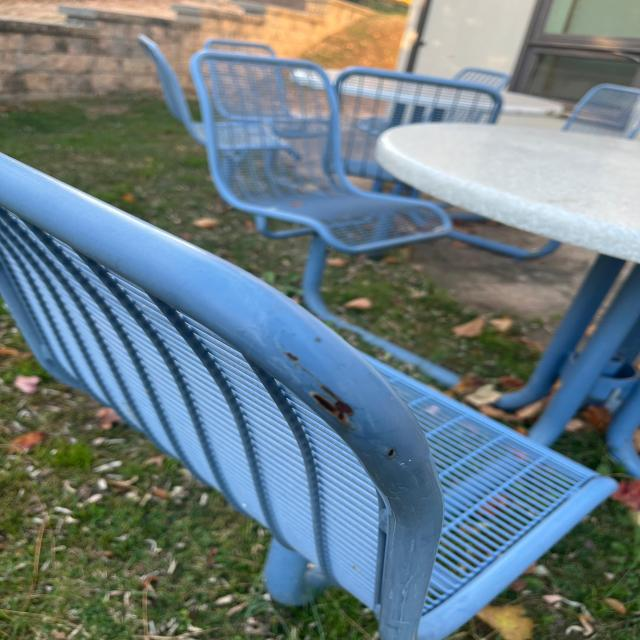Filiform Corrosion: (310, 384, 355, 425), (285, 353, 300, 364)
